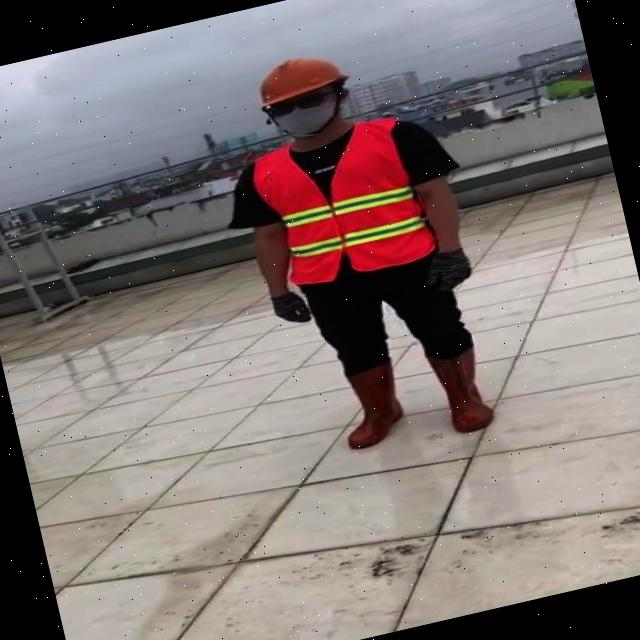boots: (421, 340, 505, 439), (329, 362, 413, 452)
